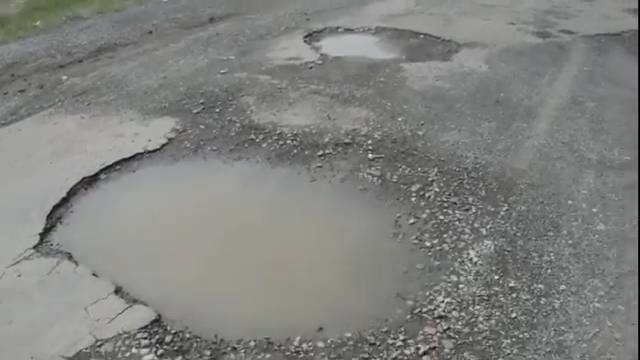pothole: (89, 162, 470, 360)
